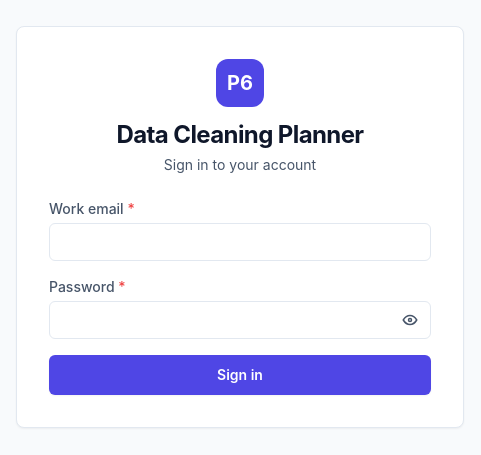
Scenario: LoginPage validation › rejects an address that is not an email
Type "not-an-email" into the field labelled "Work email *".
click(240, 242); type("not-an-email")  # box [49, 223, 431, 261]
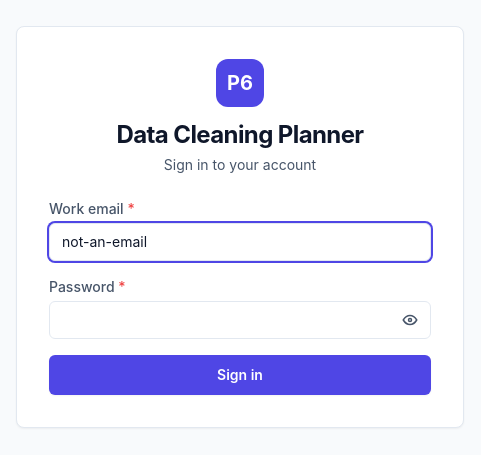
Type "correct-horse-battery" into the password field labelled "Password *".
click(240, 320); type("correct-horse-battery")  # box [49, 301, 431, 339]
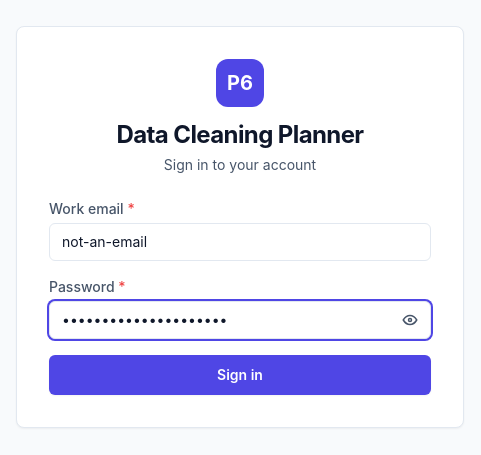
Click the button "Sign in".
click(240, 375)  # box [49, 355, 431, 395]
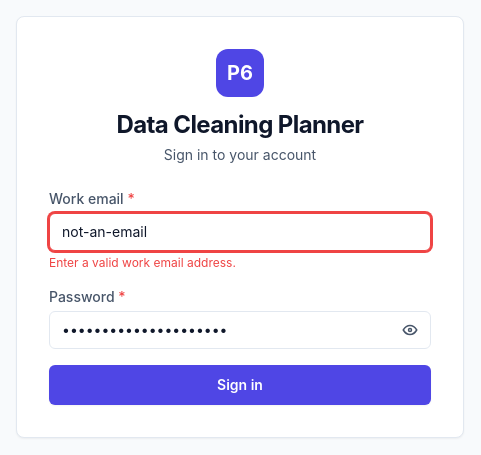
Check: the text "Enter a valid work email address." is shown, box [49, 255, 236, 270]
